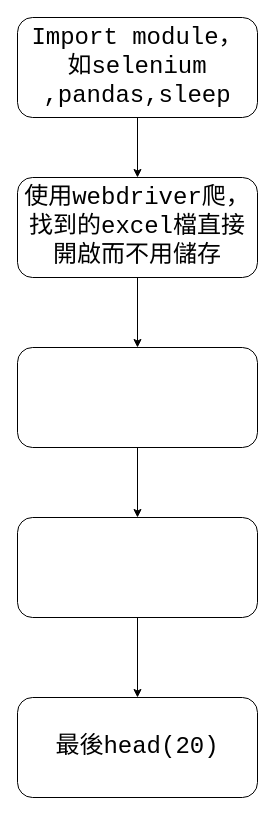
Image size: 275x815. Some labels were removed from this diagram. Here are the shapes that lost their labels. From the top down, the box of each, then its label:
(16, 346, 258, 448): 從excel中將想要的值存到list
(16, 516, 258, 618): 最後使用pandas的dataframe將資料存起來
